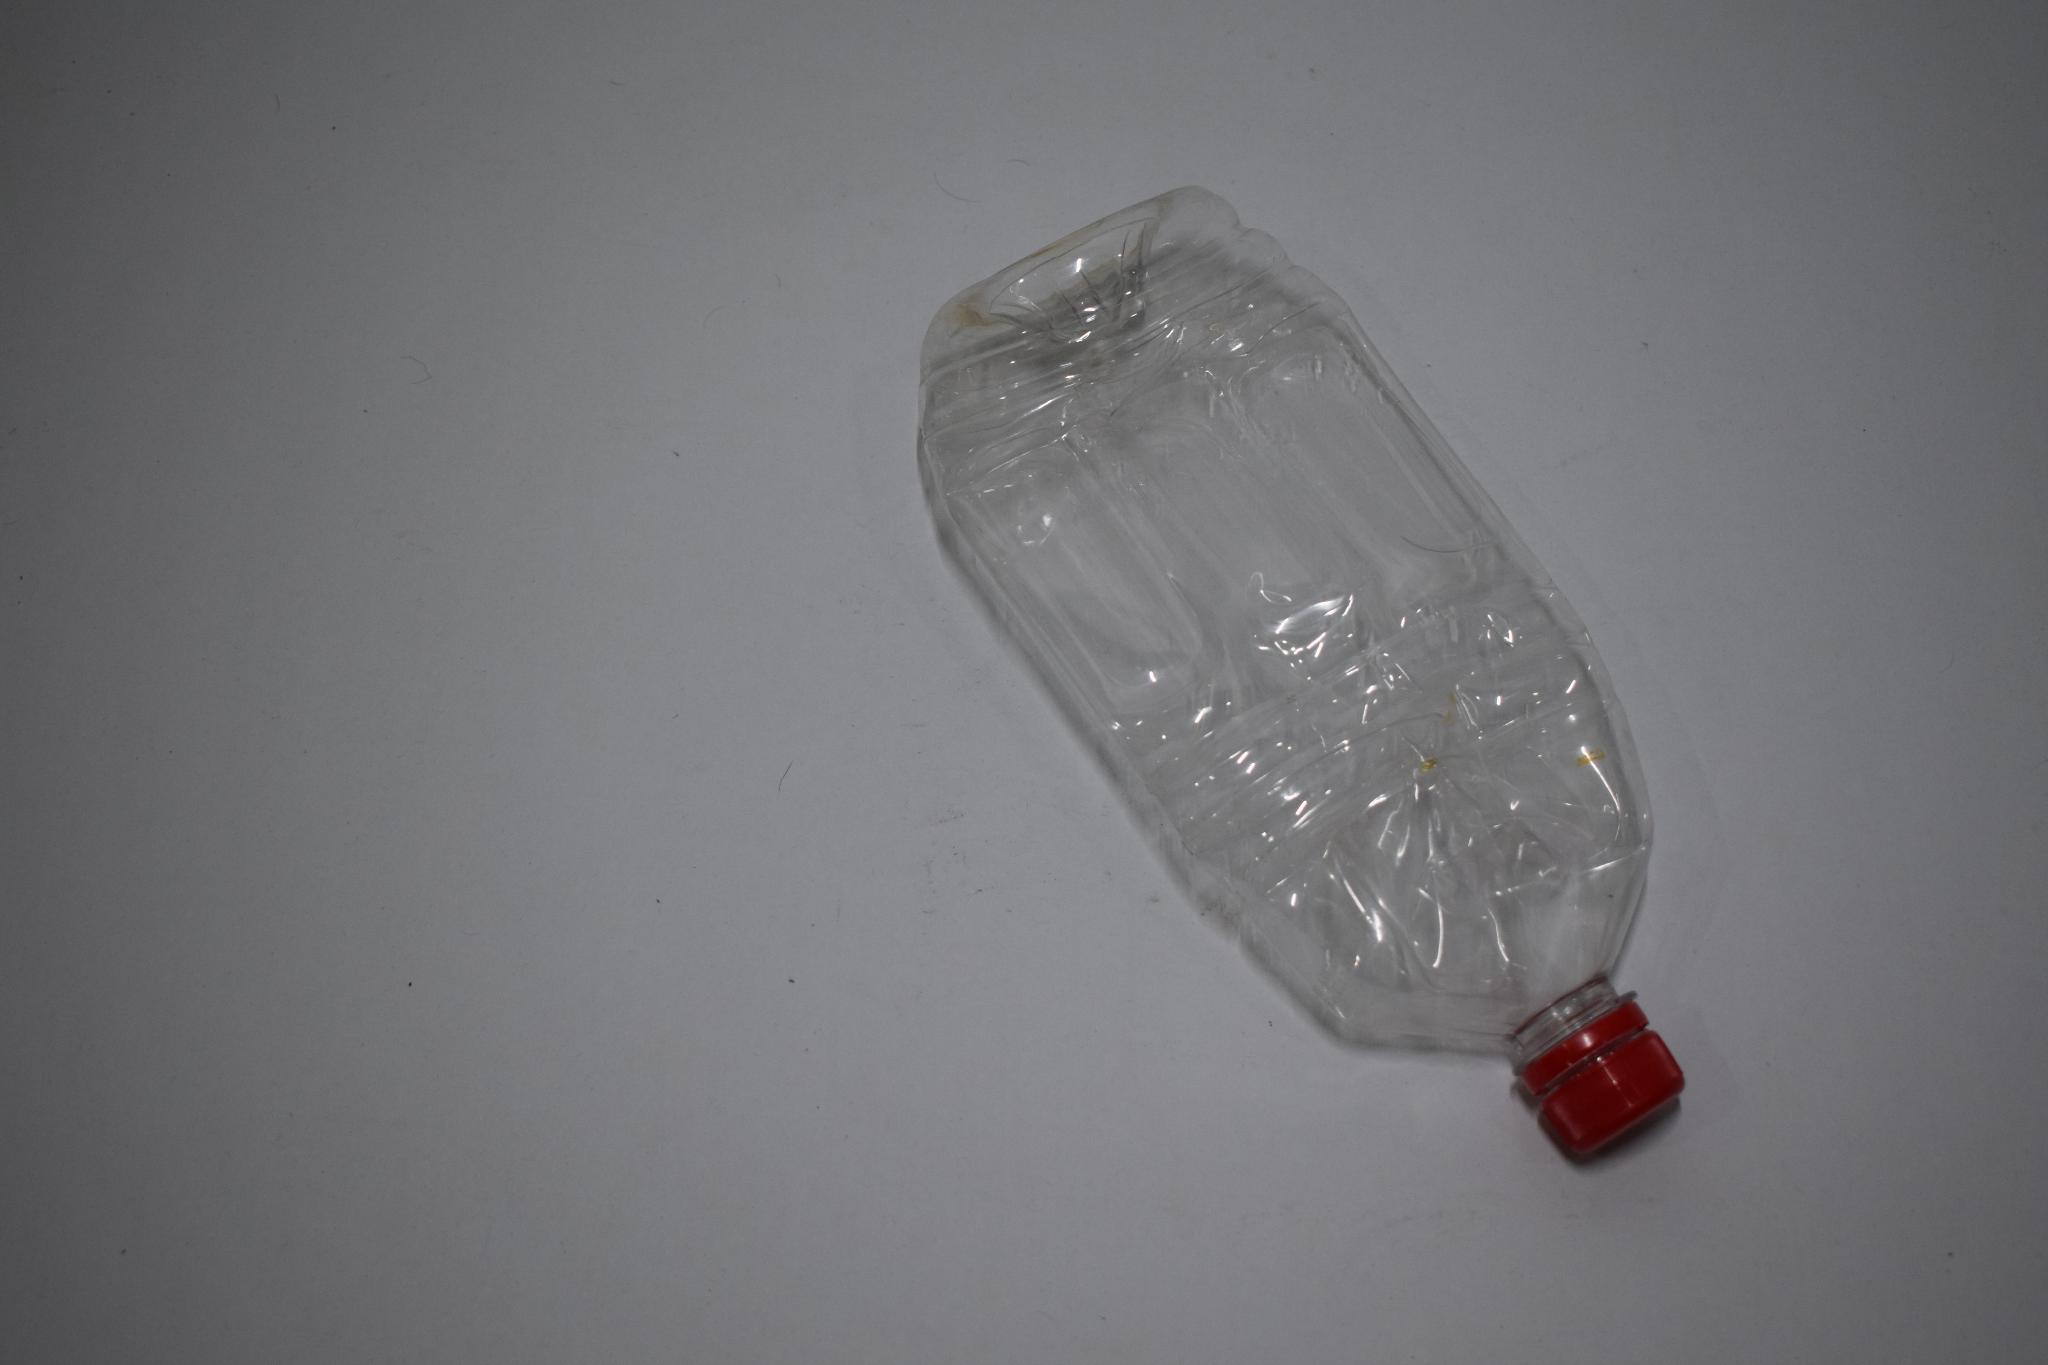bottle: (901, 175, 1683, 1167)
